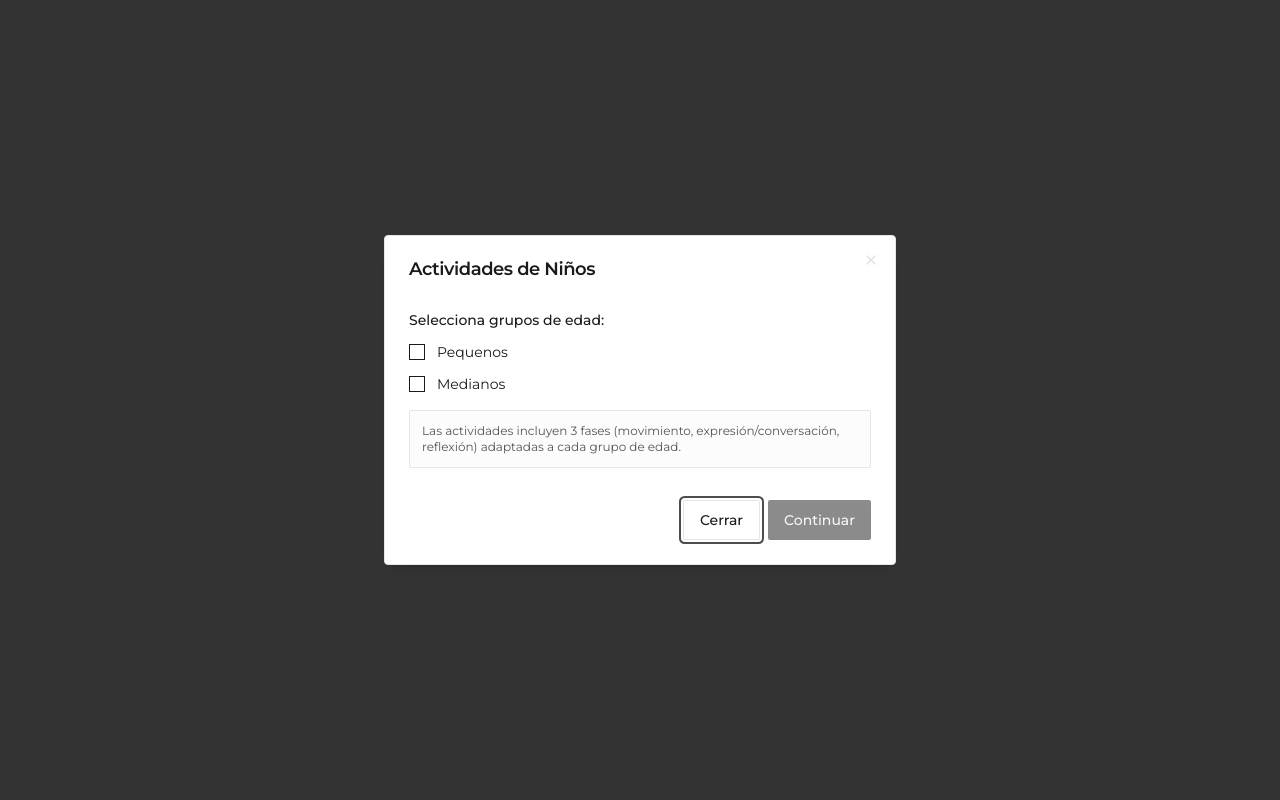
Test case: [A2] el paso de materiales intercepta TODA generación › "Continuar" navega al paso sin invocar ninguna generación
The image size is (1280, 800).
Click the checkbox named "Pequenos" next to "Pequenos" at (417, 352), box [409,344,425,360]
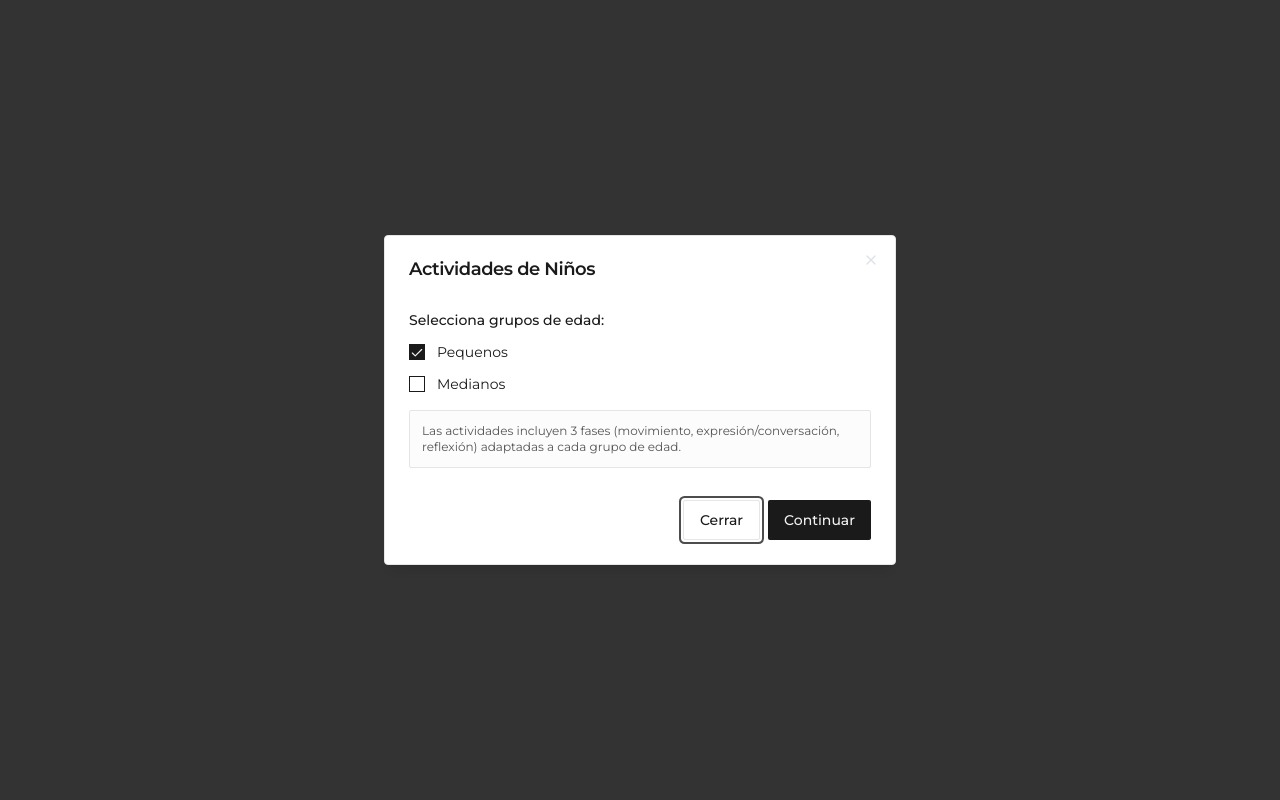
Click the button "Continuar" at (820, 520), box [768,500,871,540]
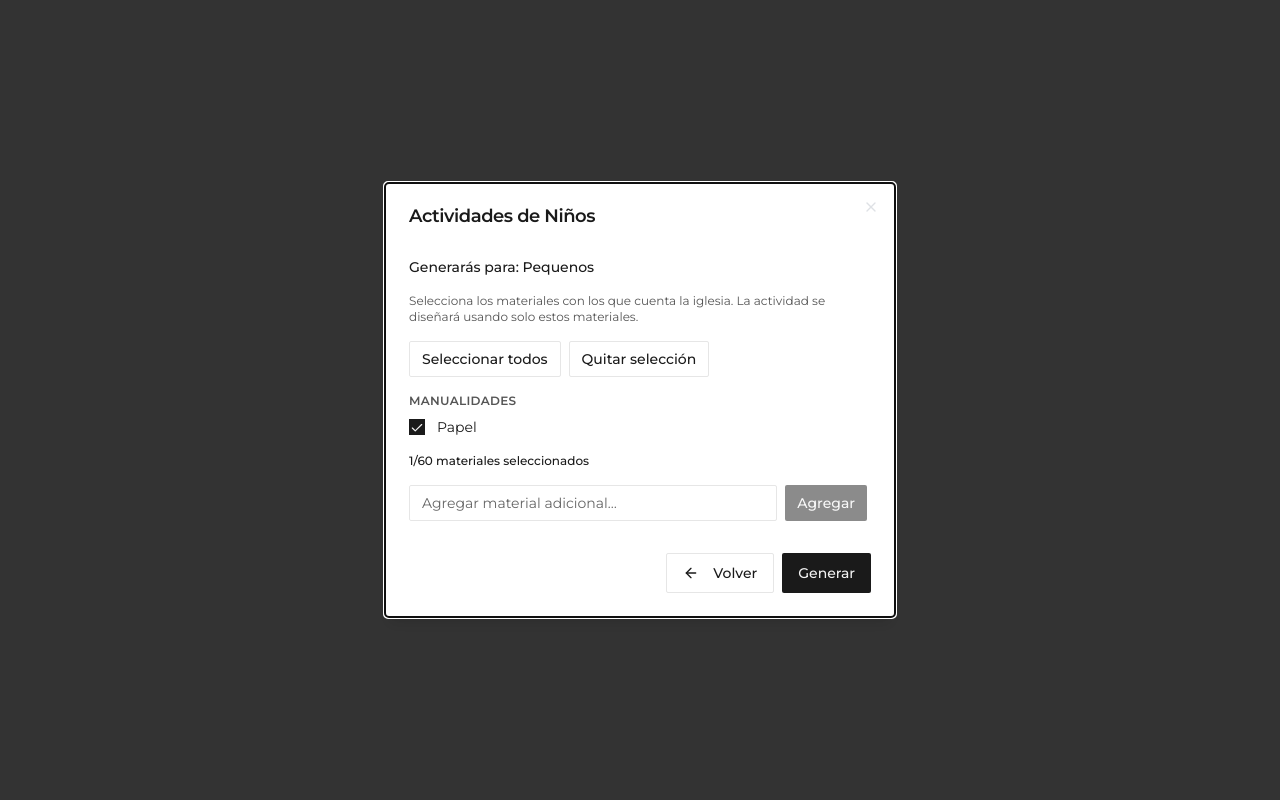
Expected: the text "Generarás para: Pequenos" is shown, [409,258,594,276]
